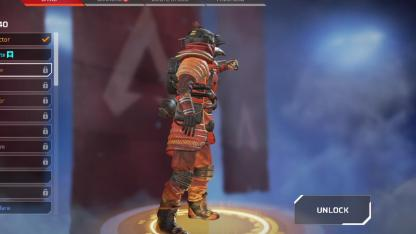Target: (165, 25, 225, 211)
